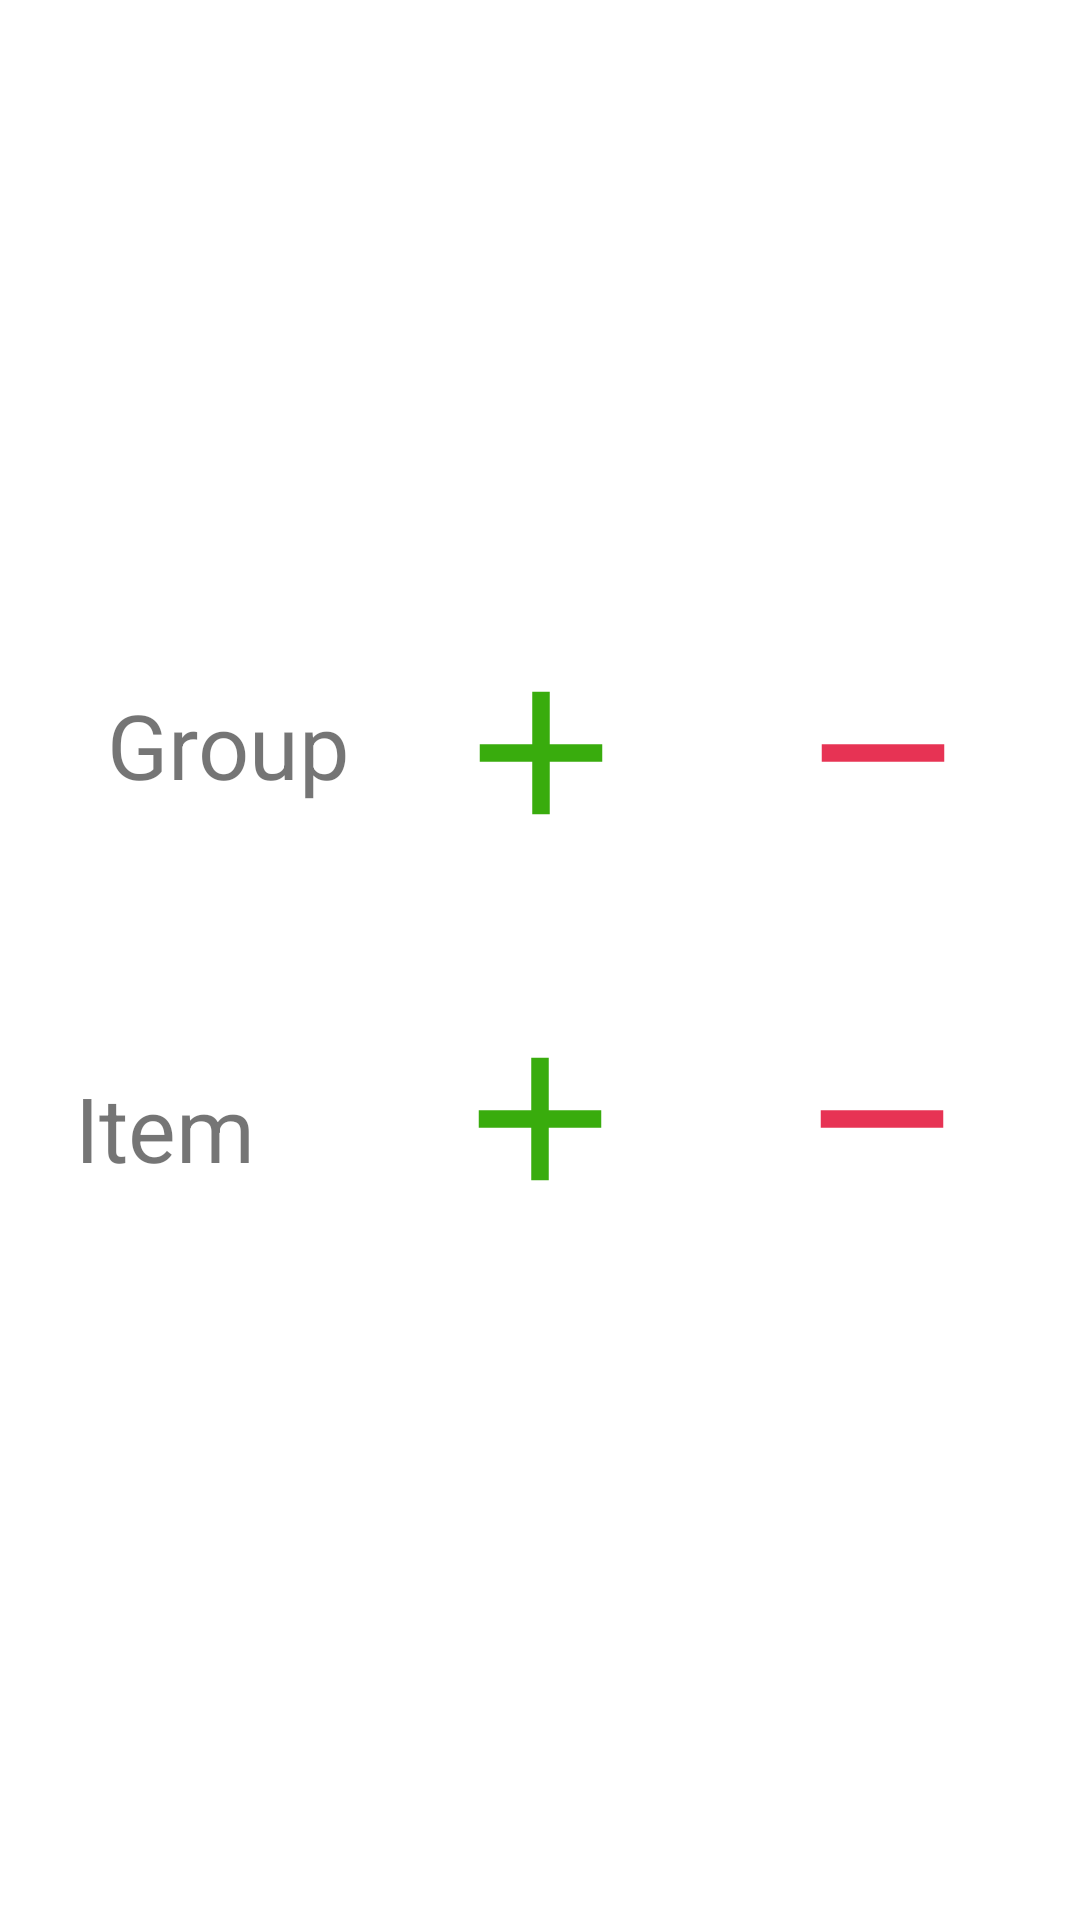

Icon bounding boxes for this 1080px x 1920px phone screenshot, format (x1, y1, x2, y2):
plus: (479, 691, 603, 815), (478, 1057, 602, 1181)
